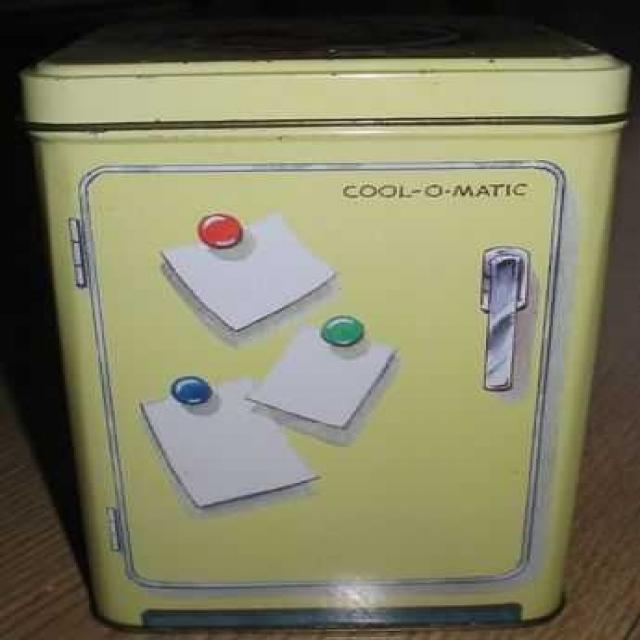refrigerator: (26, 65, 624, 627)
